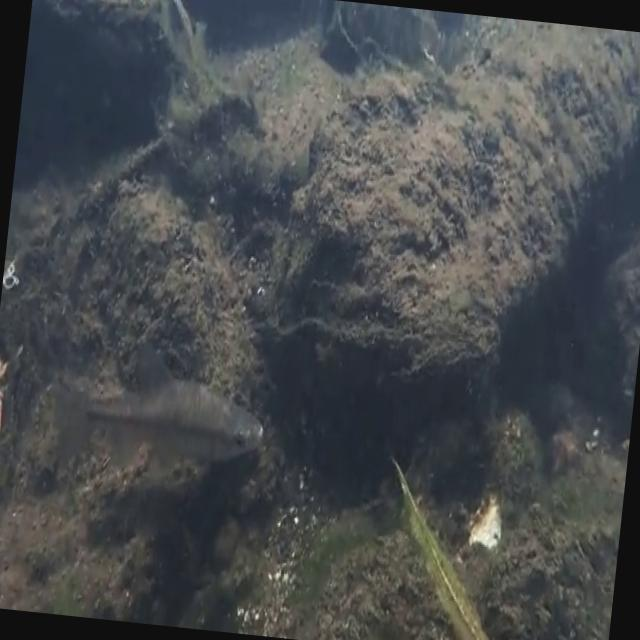Cakil Baligi: (48, 332, 281, 487)
